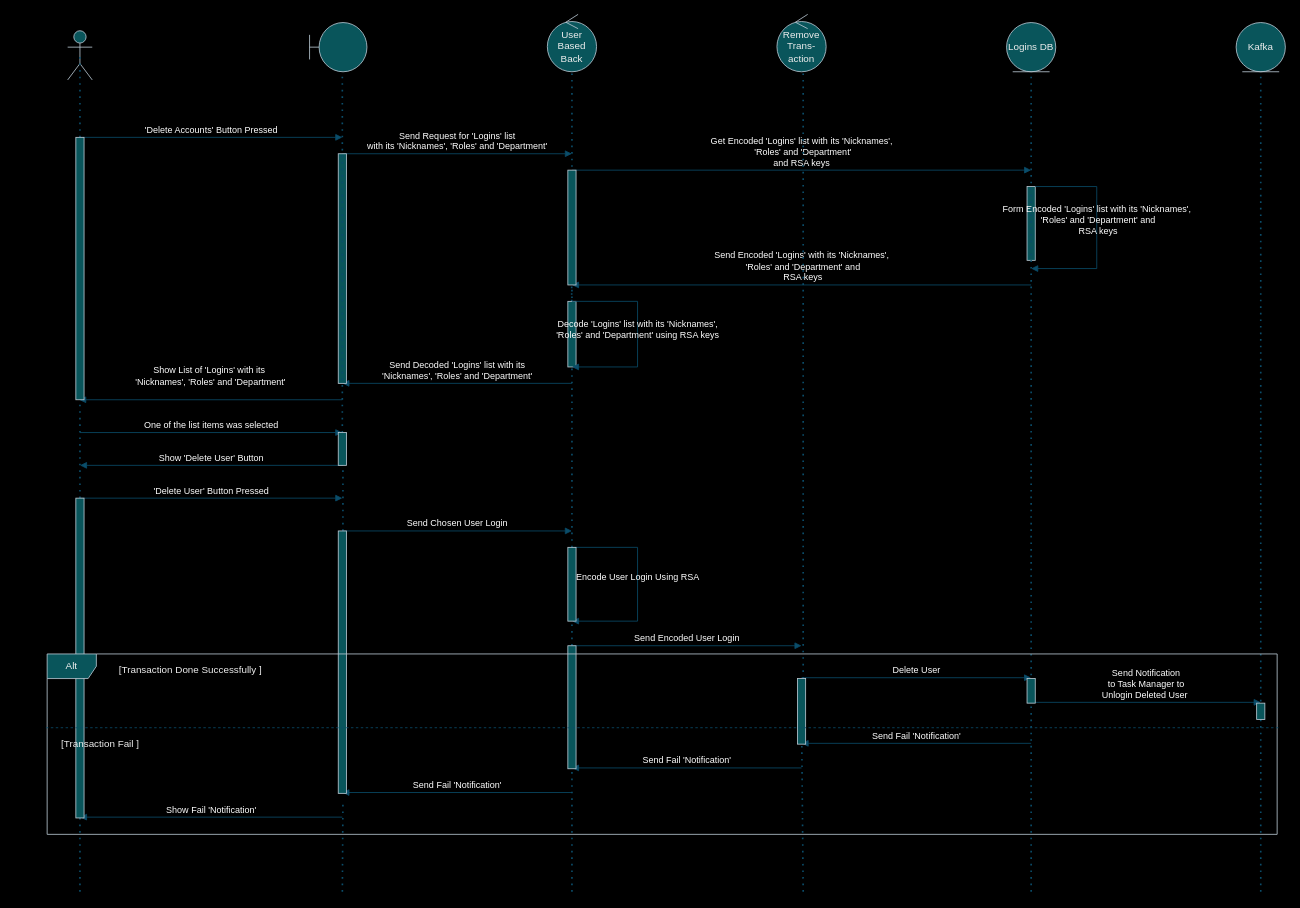
Image size: 1300x908. Some labels were removed from this diagram. Each missing label, with the centre of its shape:
Admin: pixel 79 55
UI: pixel 338 47
